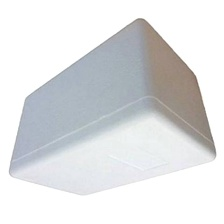foam_box: (6, 15, 220, 198)
